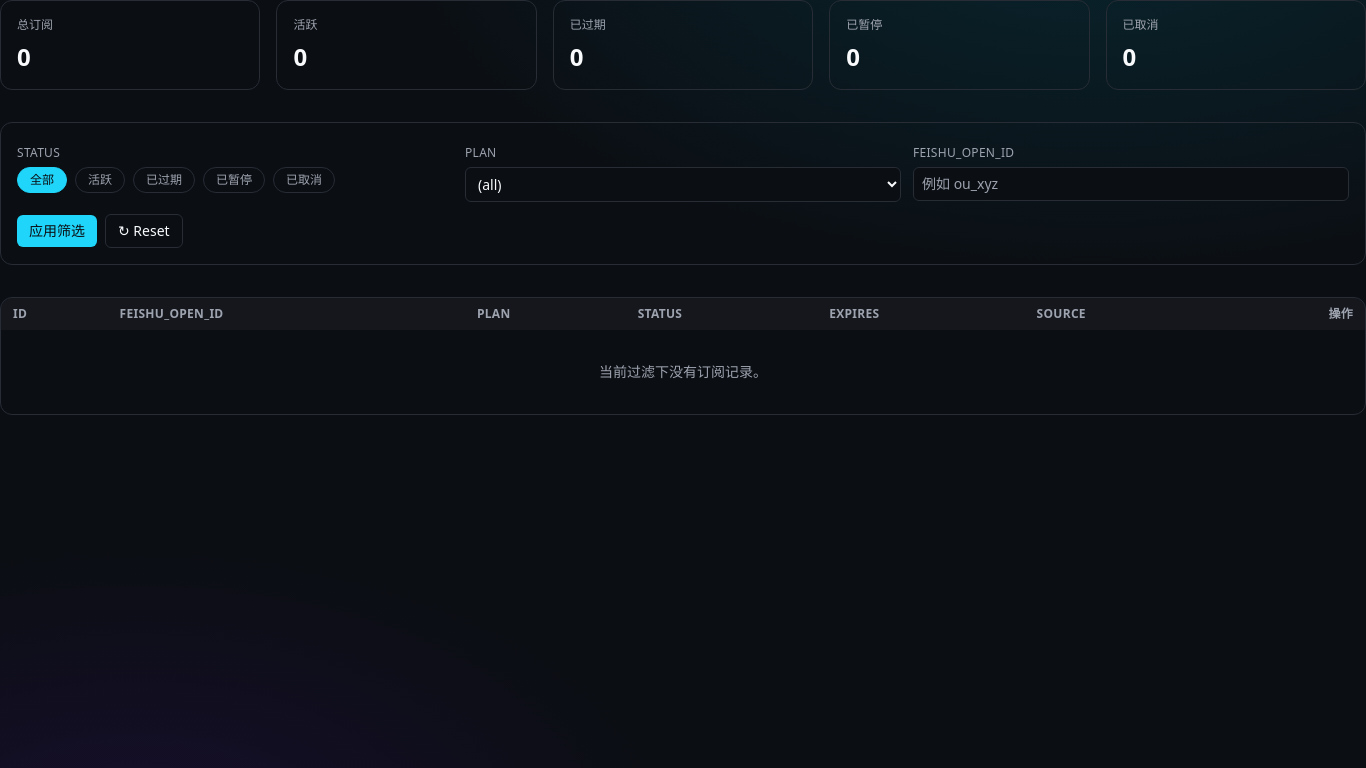
SubscriptionsPanel › shows an error banner when fetch fails
Click the button with test id "btn-reset": (144, 231) [105,214,183,248]
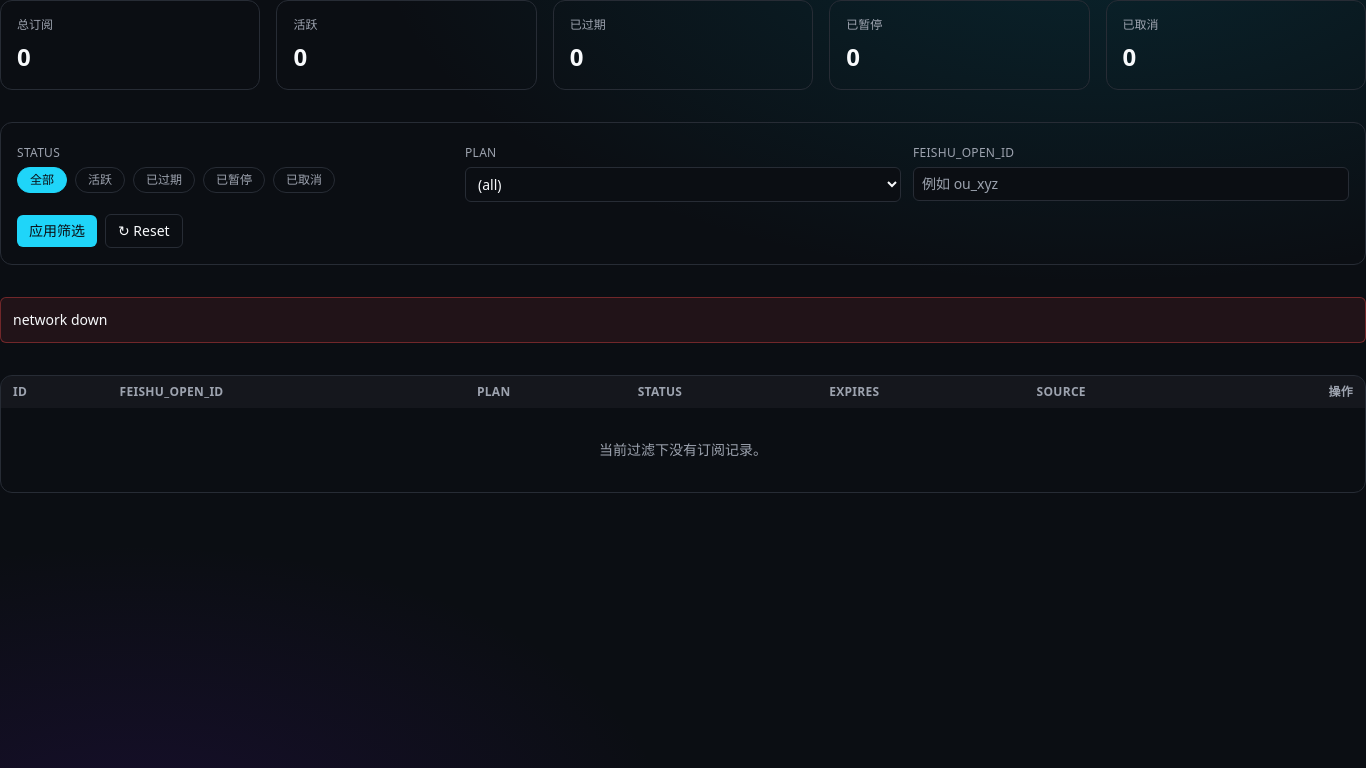
Check: the text with test id "subscriptions-error" reads "network down", box [13,310,107,329]
